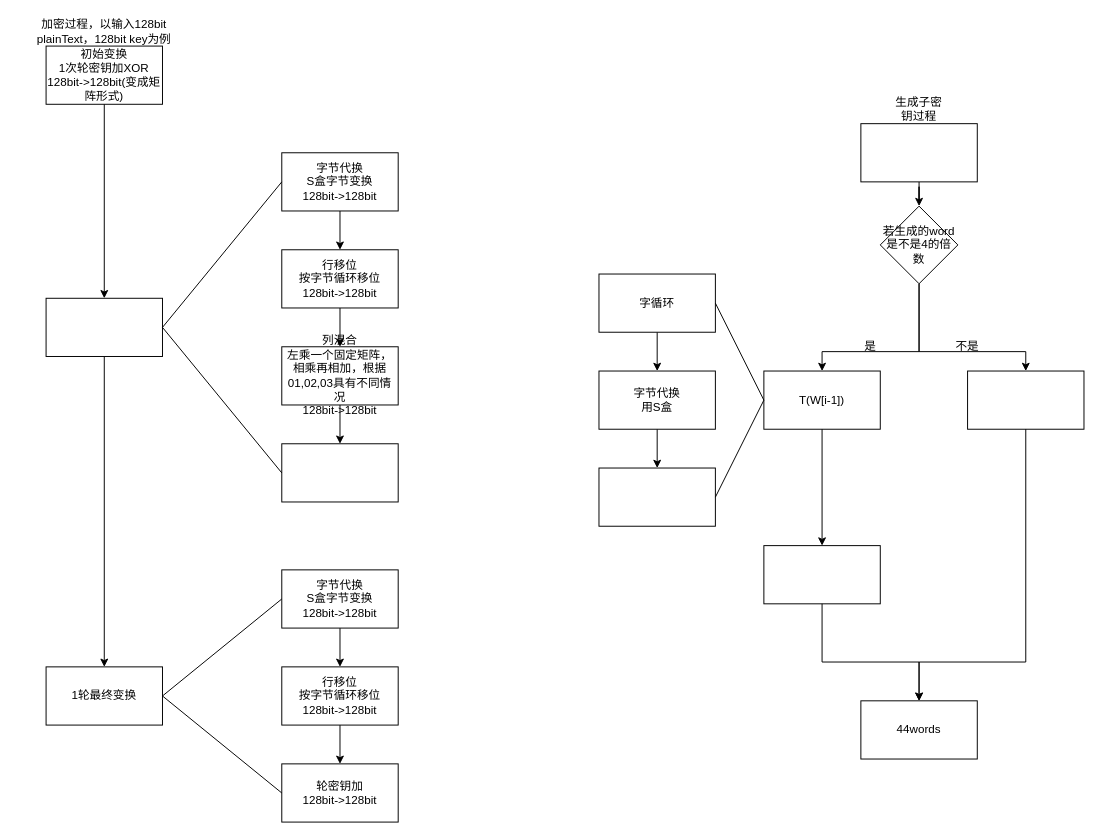
Image size: 1101x839. Some labels were removed from this diagram. The box of each missing label's shape, as (x1, y1, x2, y2) in pixels:
4vectors=4words=16byte=128bit: (860, 123, 977, 182)
9轮轮循环: (45, 297, 162, 356)
w[i] = T(W[i-1]) XOR w[i-4]: (763, 545, 880, 604)
w[i] = w[i-1] XOR w[i-4]: (967, 370, 1084, 429)
轮密钥加 与密钥异或 128bit->128bit: (281, 443, 398, 502)
轮常量异或: (598, 467, 715, 526)
